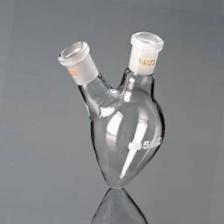Pear shaped flask: (47, 29, 168, 188)
